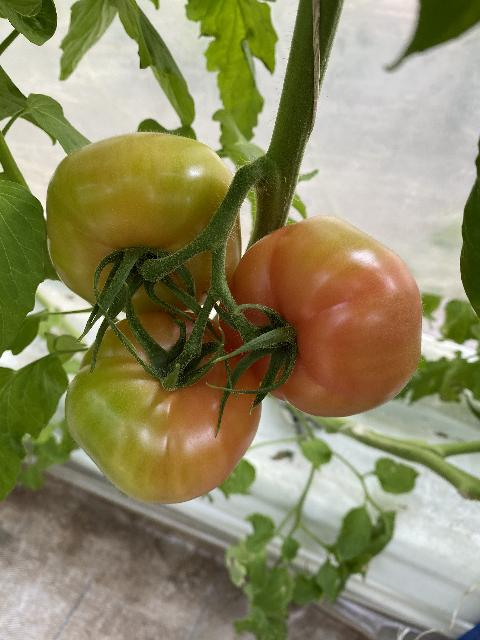b_half_ripened: (218, 215, 423, 418), (64, 311, 263, 505), (46, 132, 242, 315)
